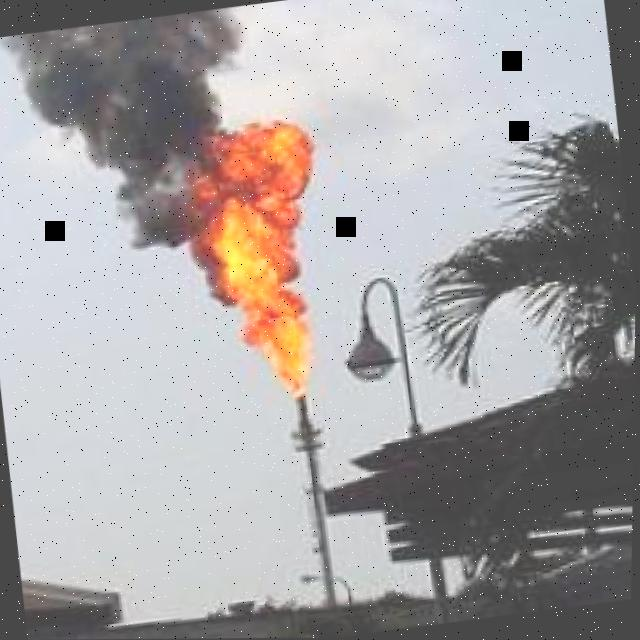fire: (203, 121, 315, 397)
smoke: (0, 8, 244, 307)
